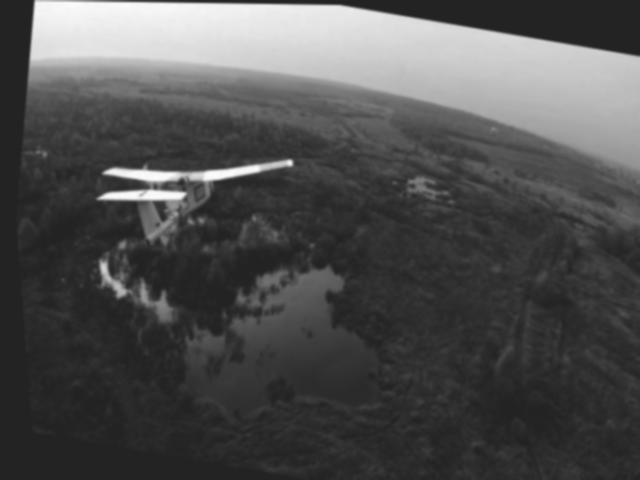hedef: (70, 102, 303, 293)
